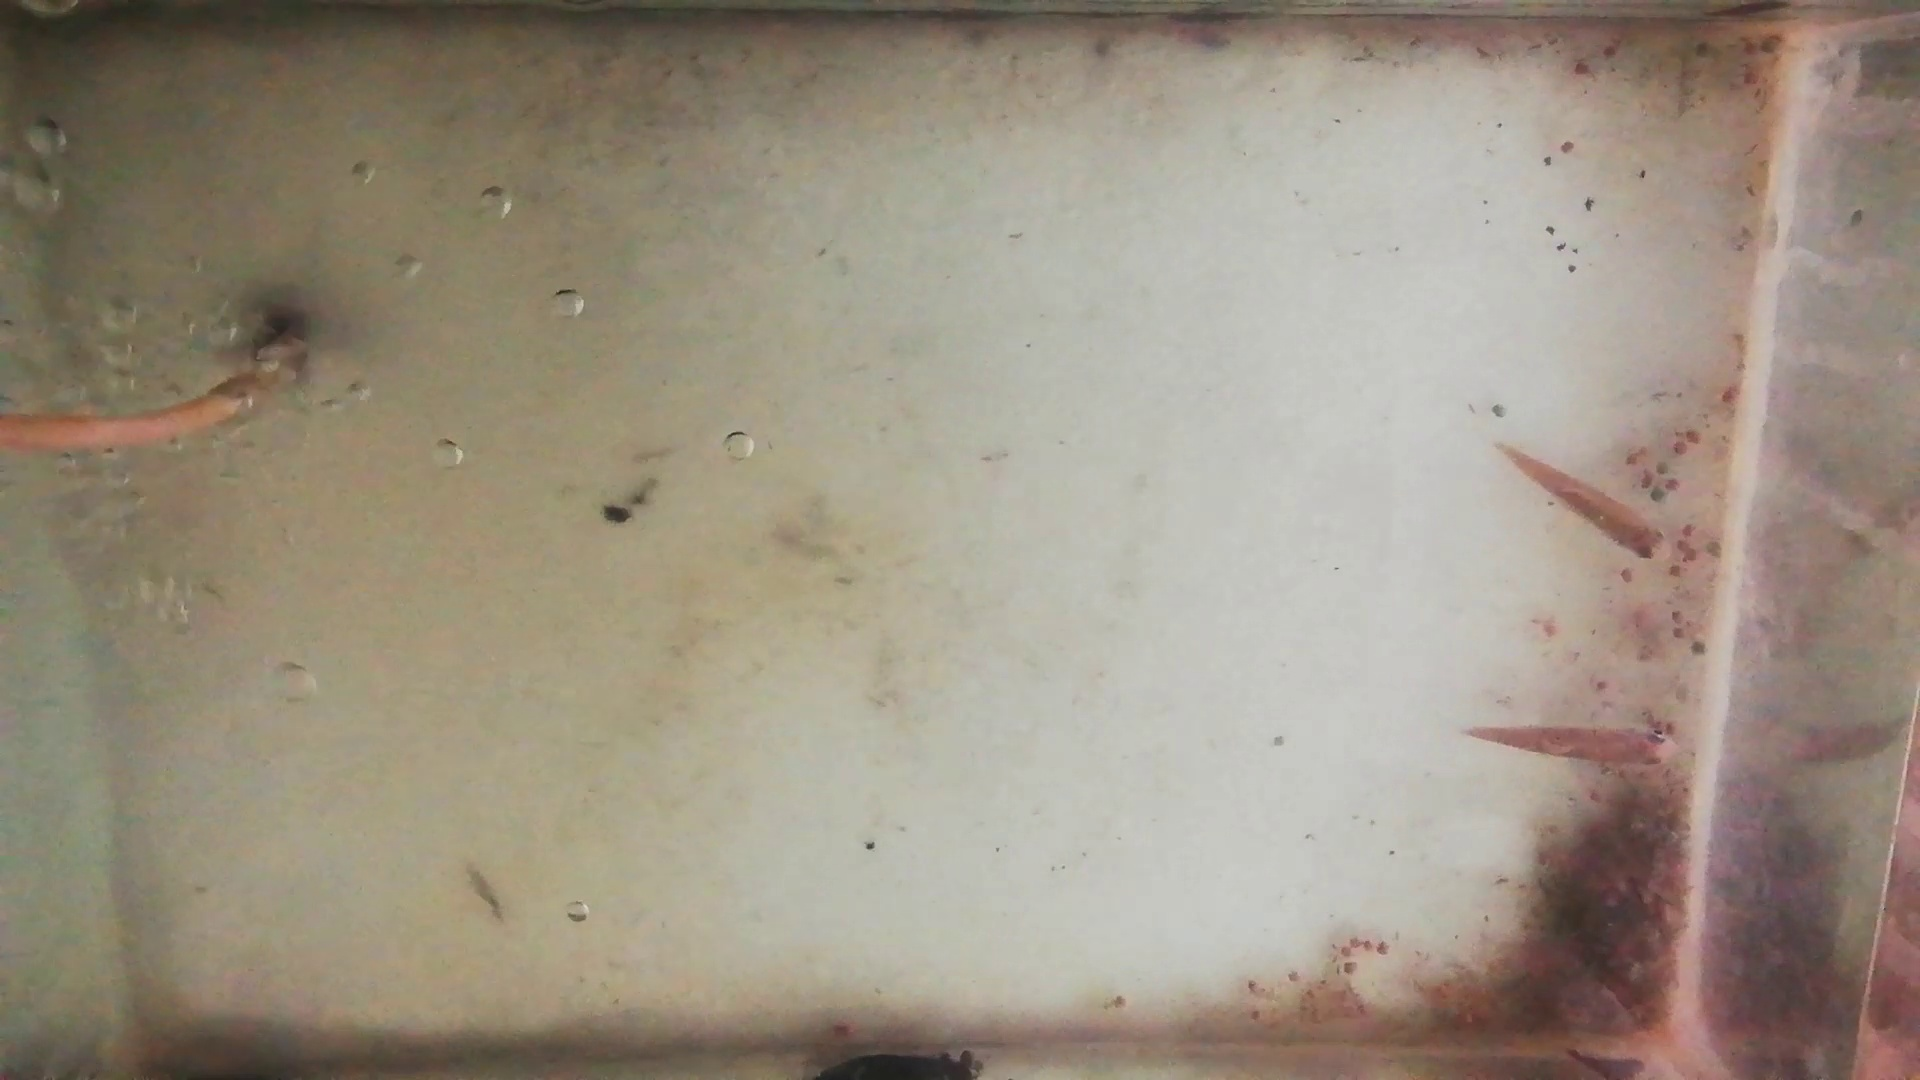fish: (1503, 444, 1668, 564), (1466, 717, 1677, 770)
